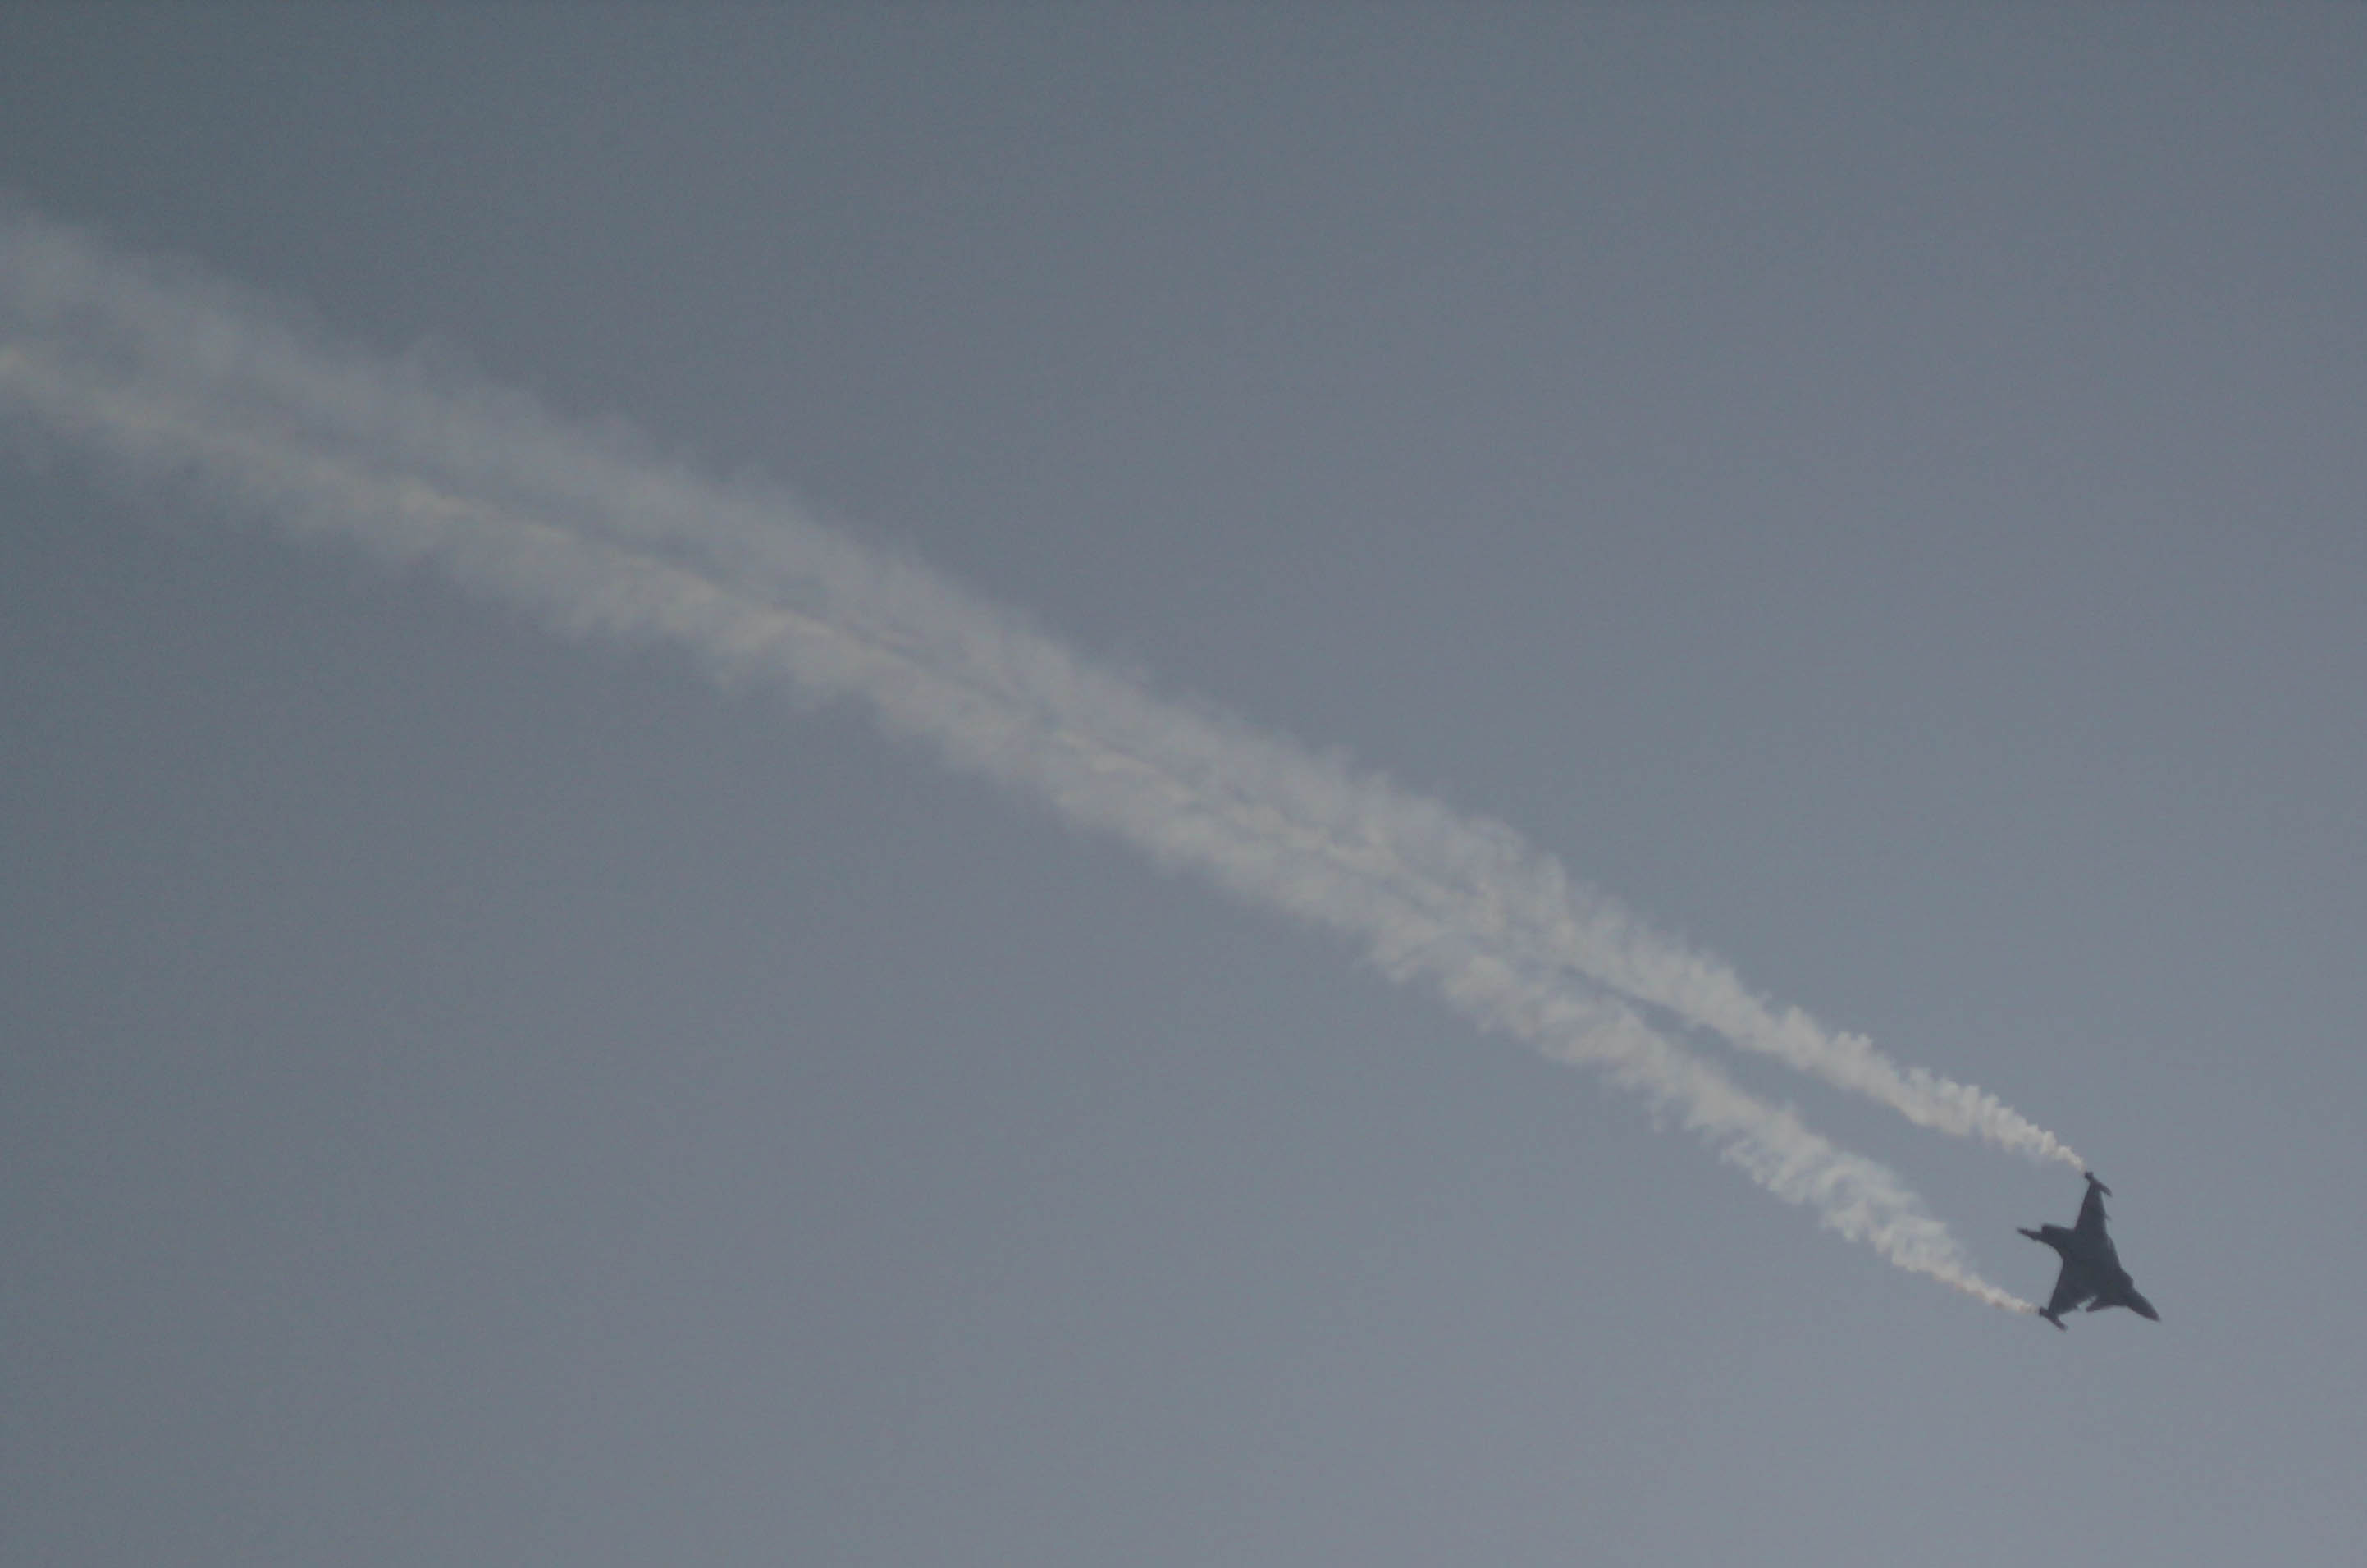JAS39: (2014, 1171, 2166, 1333)
